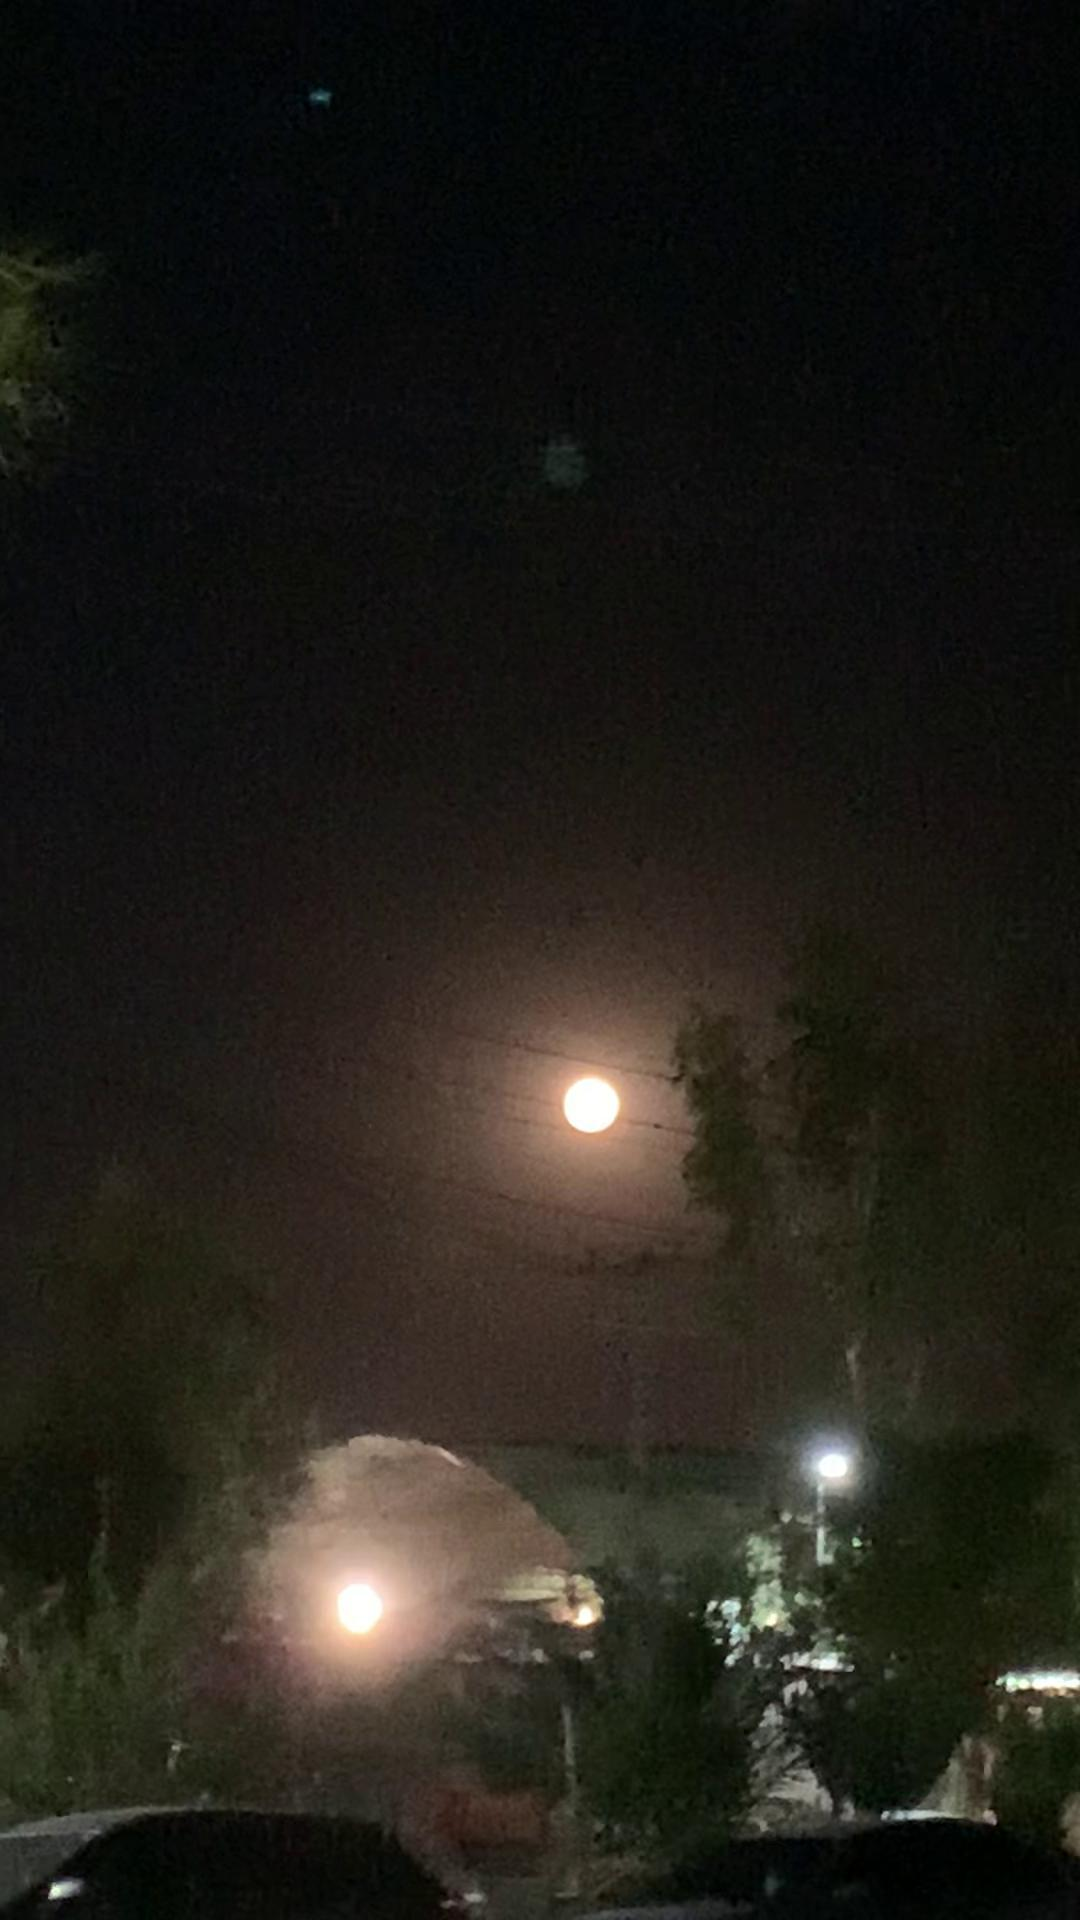moon: (549, 1079, 618, 1150)
